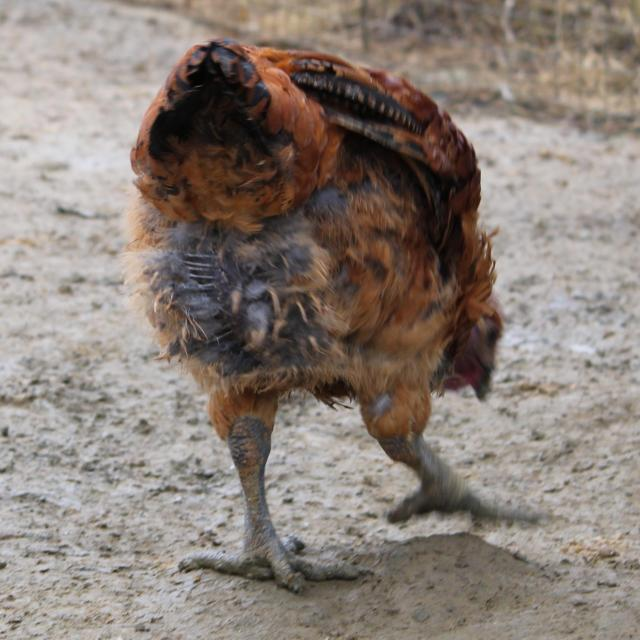hen: (91, 0, 543, 610)
